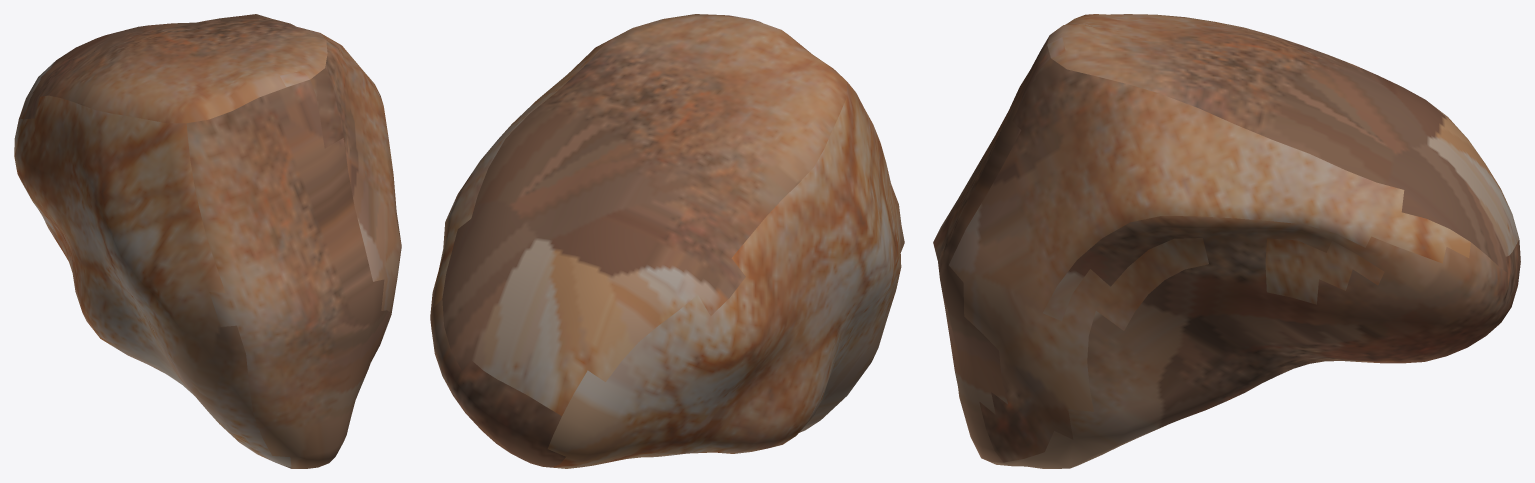
File: rock_small02.fbx
3 renders of one model, left to right at view 1: azimuth 30°, elevation 25°; view 2: azimuth 150°, elevation 25°; view 3: azimuth 270°, elevation 25°, orthographic. The views are drawn at different scales.
Parts seen in each view (by area): view 1: rocksmall02; view 2: rocksmall02; view 3: rocksmall02.
Part boxes in pixels (box(x1,y1,x2,y2)): rocksmall02: box(14, 14, 401, 468); rocksmall02: box(430, 14, 904, 468); rocksmall02: box(933, 14, 1520, 468).
Bounding box in the file's own units: 0.5831 × 0.7223 × 0.9107.
